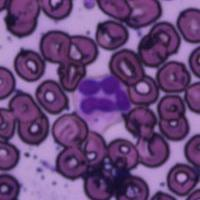N: (73, 73, 132, 131)
